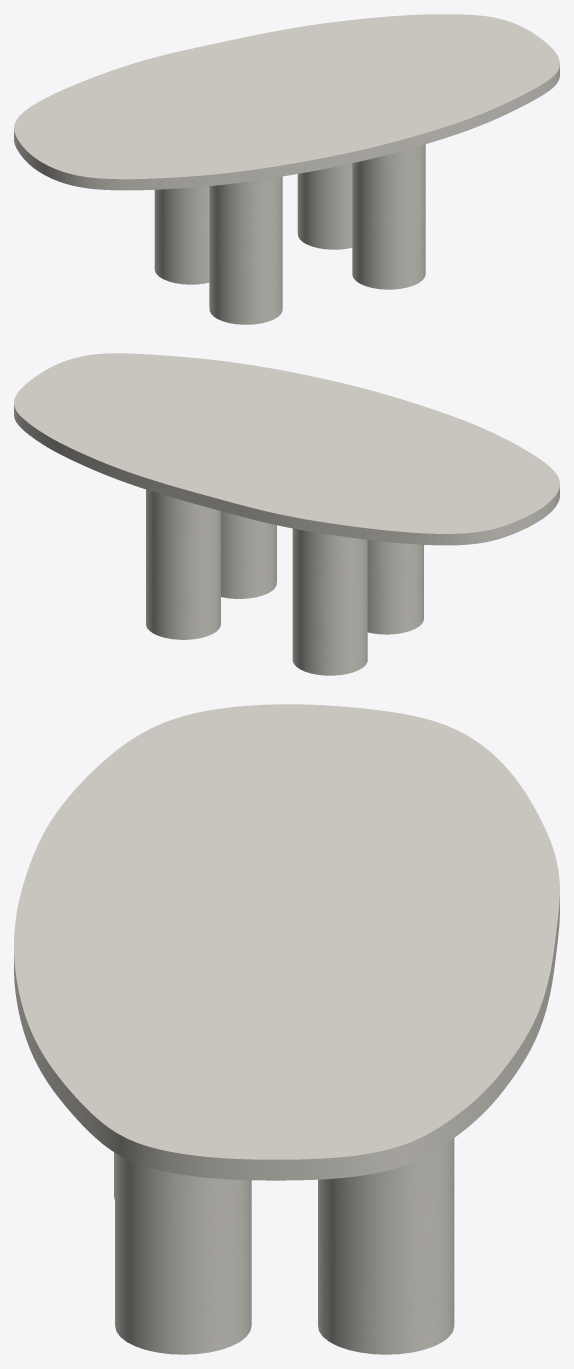
The model's file is pale_danish_standard_grove.glb.
3 views of the same model, one above another, from view 1: azimuth 30°, elevation 25°; view 2: azimuth 150°, elevation 25°; view 3: azimuth 270°, elevation 25° (orthographic). The views are drawn at different scales.
Parts seen in each view (by area): view 1: standard_danish, grove; view 2: standard_danish, grove; view 3: standard_danish, grove.
Boxes of the visible parts, x1,y1,x2,y2 form: standard_danish: (14,14,559,190); grove: (154,144,425,324); standard_danish: (14,353,559,545); grove: (146,489,423,675); standard_danish: (14,704,559,1180); grove: (114,1138,454,1354).
Bounding box in the file's own units: 7.5 × 2.5 × 3.8.
Materials: 1 (1 with a texture image).
